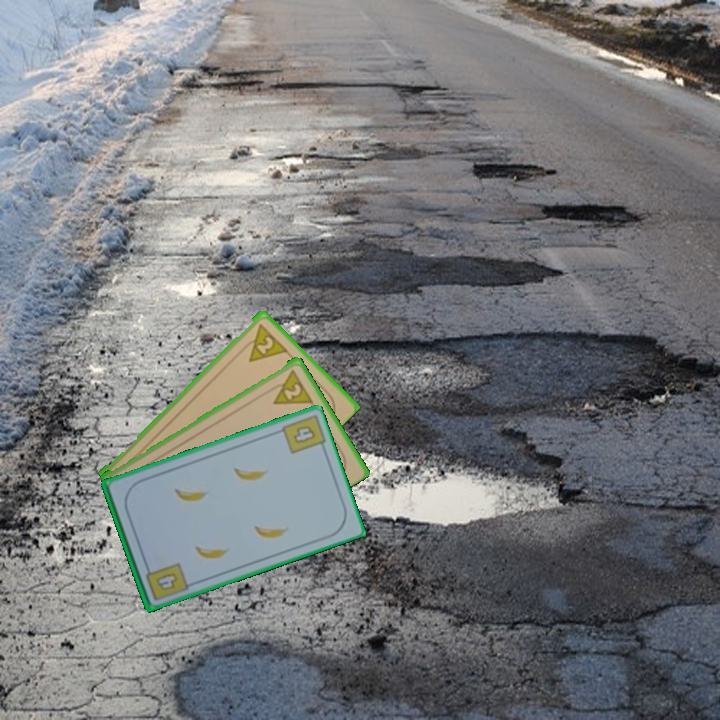2p: (237, 320, 289, 365), (264, 364, 315, 407)
4b: (142, 559, 190, 603), (290, 422, 319, 446)
